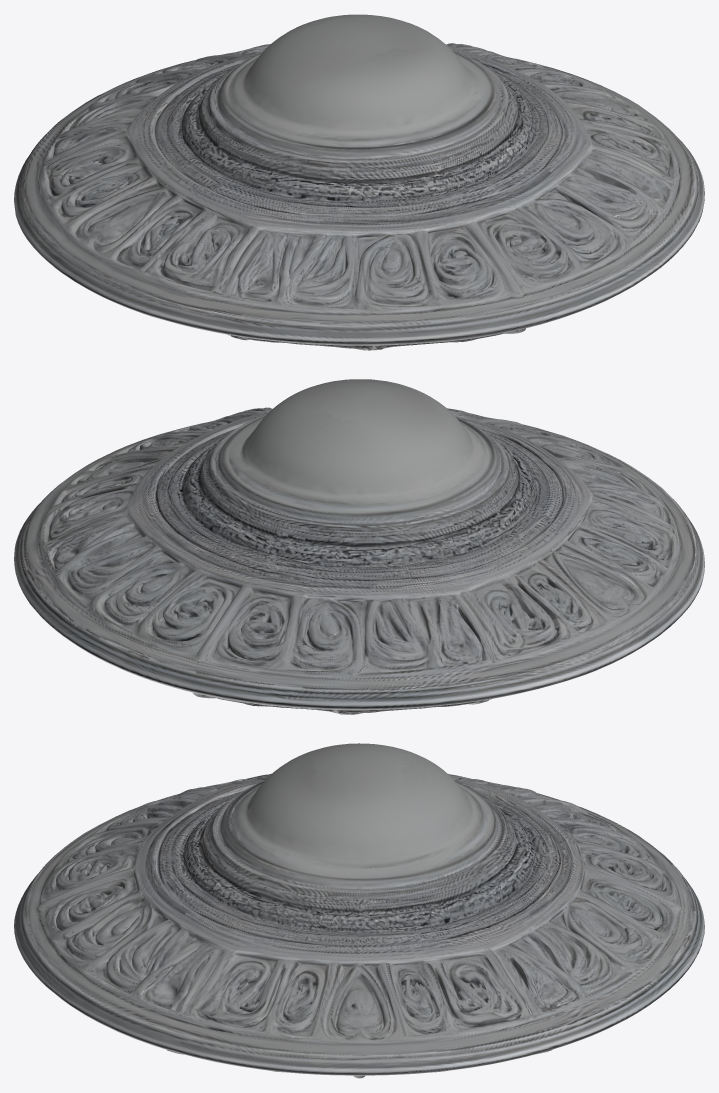
The picture shows the model from 3 angles, top to bottom: view 1: azimuth 30°, elevation 25°; view 2: azimuth 150°, elevation 25°; view 3: azimuth 270°, elevation 25°; orthographic projection.
Parts seen in each view (by area): view 1: convert; view 2: convert; view 3: convert.
Part boxes in pixels (left/top/right/bottom): convert: left=14, top=14, right=704, bottom=350; convert: left=14, top=379, right=704, bottom=714; convert: left=14, top=743, right=704, bottom=1078.
Bounding box in the file's own units: 1.19 × 0.5004 × 1.19.
1 material, 1 textured.
